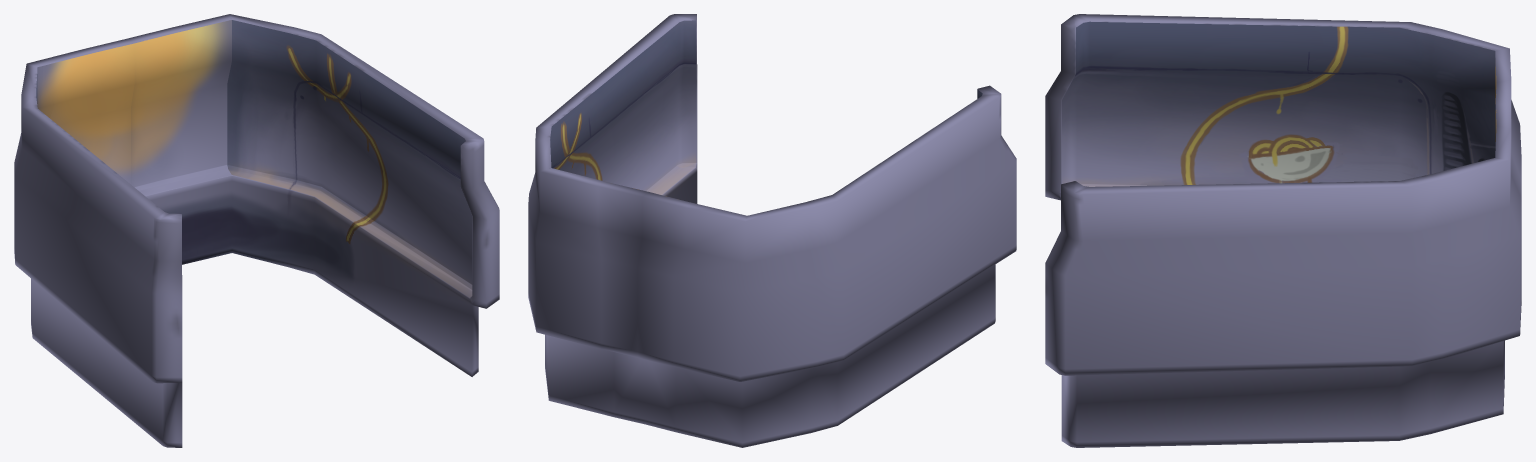
The model's file is stena_1.obj.
The picture shows the model from 3 angles, left to right: view 1: azimuth 30°, elevation 25°; view 2: azimuth 150°, elevation 25°; view 3: azimuth 270°, elevation 25°; orthographic projection. The views are drawn at different scales.
Visible parts, largest first — view 1: Cube.061; view 2: Cube.061; view 3: Cube.061.
Part boxes in pixels (bbox=[...]): Cube.061: bbox=[14, 14, 499, 447]; Cube.061: bbox=[528, 14, 1016, 447]; Cube.061: bbox=[1045, 14, 1521, 447].
Bounding box in the file's own units: 5.57 × 3.5 × 5.87.
